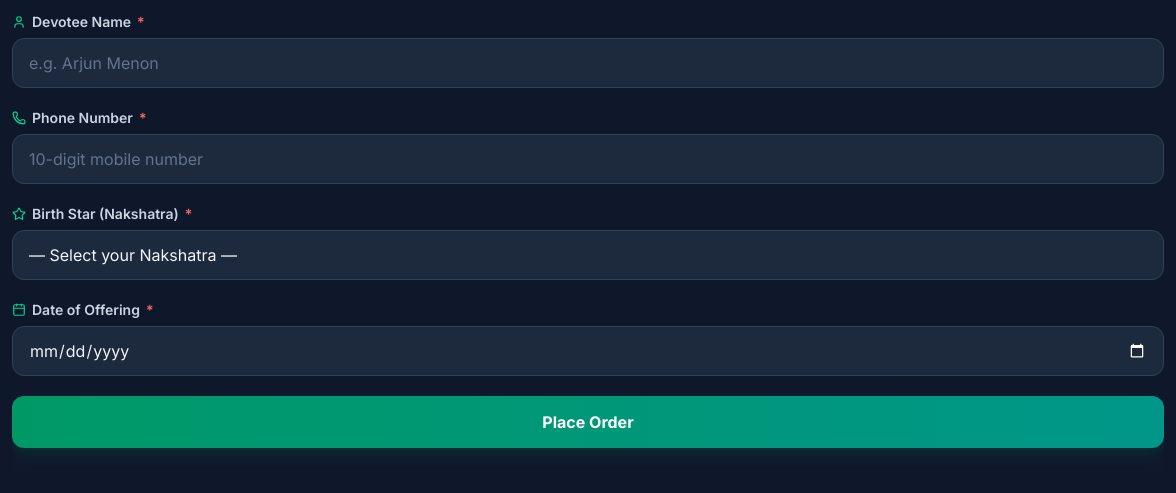
Test: Phase 5: Mobile Optimization & Accessibility (a11y) Audit › associates invalid fields with aria-invalid and aria-describedby alerts
The width and height of the screenshot is (1176, 493).
Trigger validation error on blur
Type "123" into the field labelled "Phone Number *".
click(588, 159); type("123")  # box [12,134,1164,184]
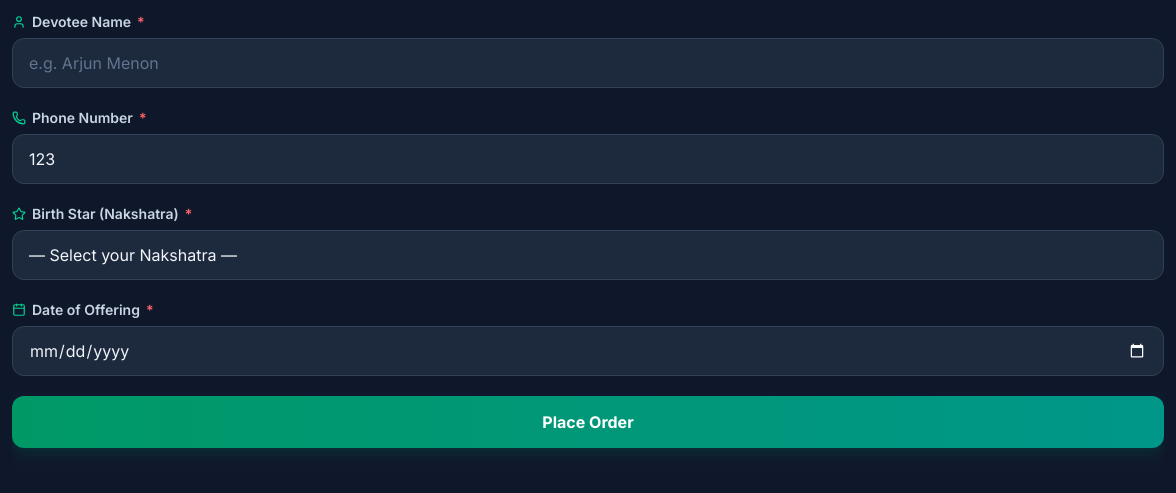
Leave the field labelled "Phone Number *", box [12,134,1164,184]
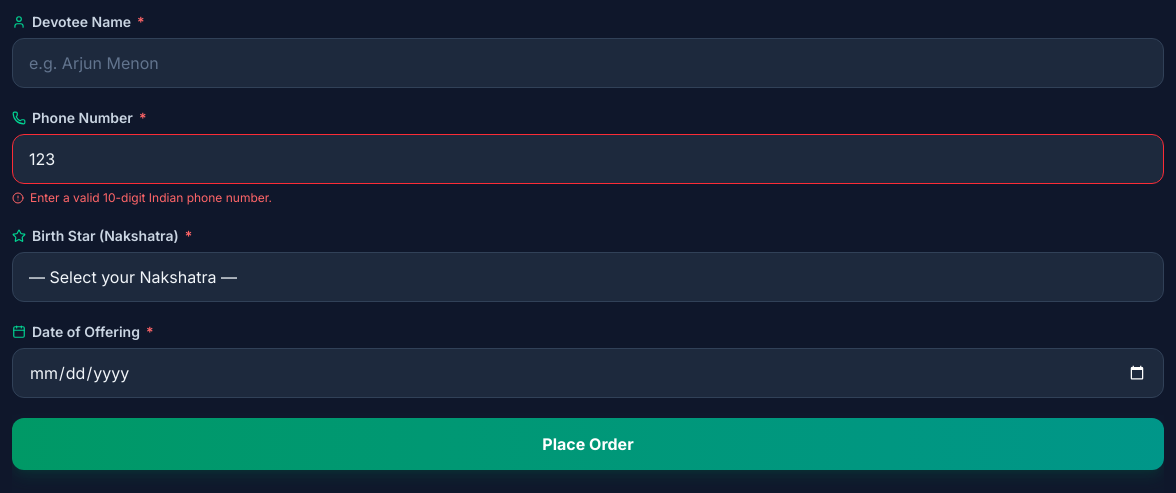
expect the message "Enter a valid 10-digit Indian phone number." is shown: met, box [12,190,272,205]
expect the message shows "10-digit": met, box [30,190,272,205]
